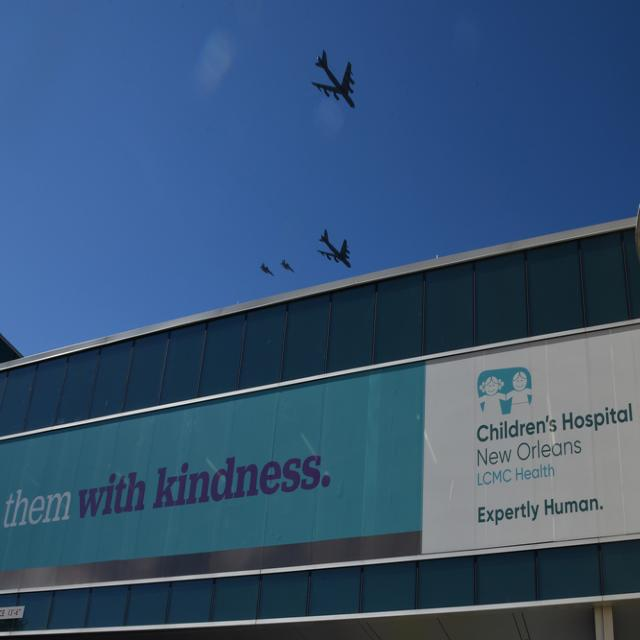MIL_Plane: (310, 50, 356, 108), (316, 229, 352, 269), (259, 262, 275, 277), (280, 258, 295, 274)
